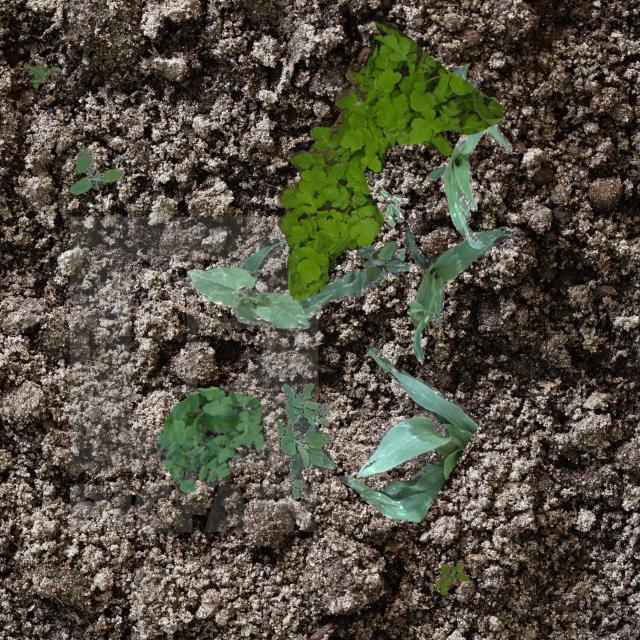crop: (342, 347, 478, 520), (232, 238, 404, 324), (404, 228, 510, 362), (428, 122, 512, 248), (186, 264, 310, 328)
weed: (276, 18, 504, 298), (156, 386, 264, 492), (276, 382, 334, 498), (68, 144, 124, 194), (356, 238, 408, 282), (22, 58, 58, 88), (434, 562, 466, 594), (378, 188, 402, 225), (450, 62, 476, 86)
